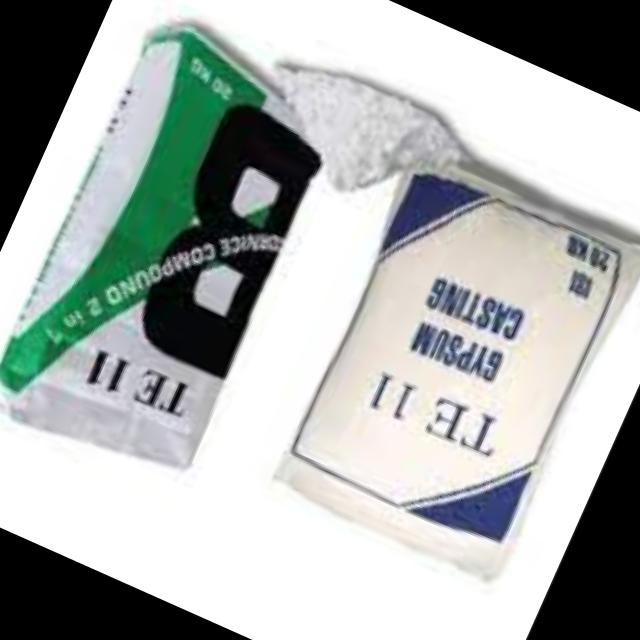KantongSemen: (0, 8, 358, 500), (263, 142, 640, 598)
